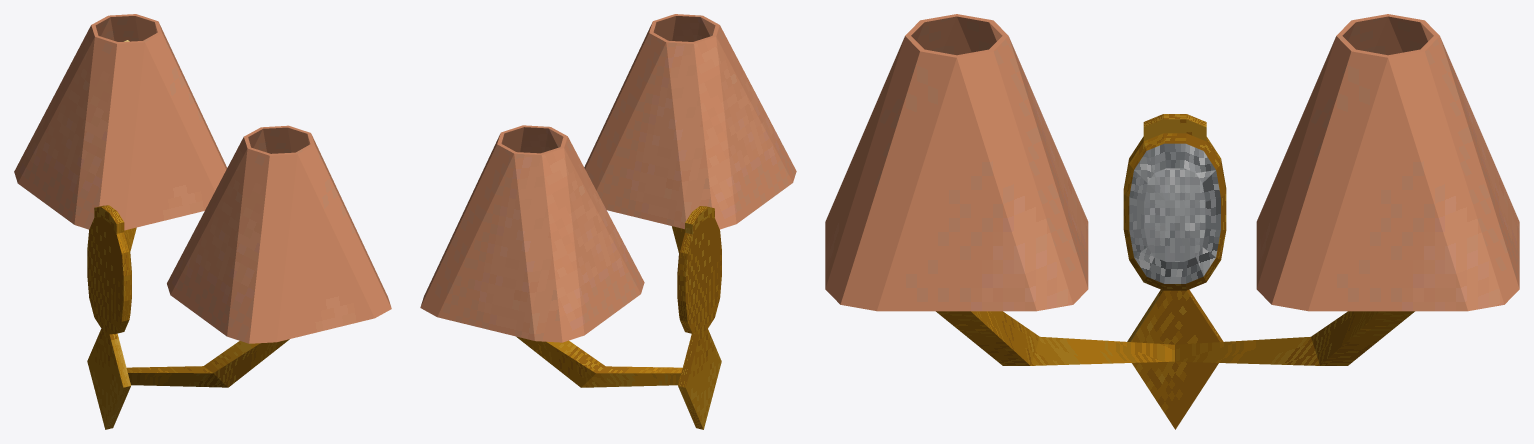
Rendered from Lamp.glb.
The picture shows the model from 3 angles, left to right: view 1: azimuth 30°, elevation 25°; view 2: azimuth 150°, elevation 25°; view 3: azimuth 270°, elevation 25°; orthographic projection. The views are drawn at different scales.
Parts seen in each view (by area): view 1: Cube.001, Cube.002, Cube; view 2: Cube.002, Cube.001, Cube; view 3: Cube.001, Cube.002, Cube.
Boxes of the visible parts, left/top/right/bottom form: Cube.001: left=167, top=125, right=391, bottom=343; Cube.002: left=14, top=14, right=226, bottom=230; Cube: left=87, top=40, right=289, bottom=429; Cube.002: left=420, top=125, right=644, bottom=342; Cube.001: left=584, top=14, right=796, bottom=229; Cube: left=516, top=206, right=721, bottom=429; Cube.001: left=825, top=14, right=1088, bottom=311; Cube.002: left=1256, top=14, right=1519, bottom=311; Cube: left=936, top=114, right=1414, bottom=429.
Bounding box in the file's own units: 5.63 × 9.78 × 13.51.
3 materials, 3 textured.
